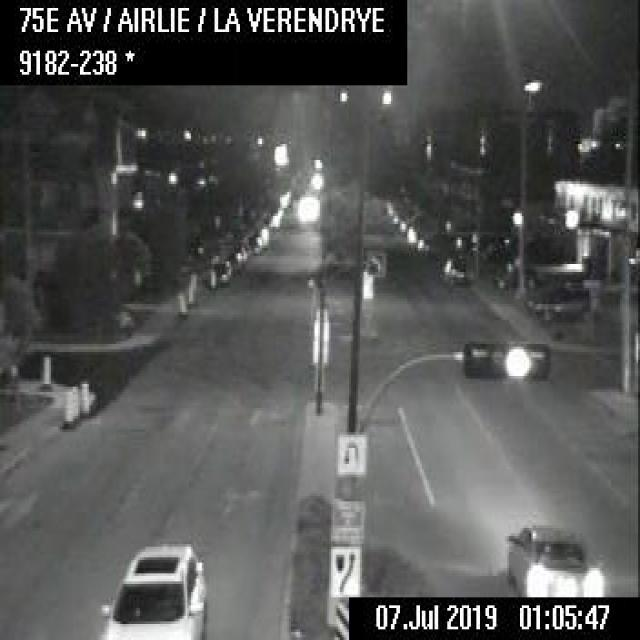construction: (62, 384, 72, 430), (40, 351, 52, 389), (206, 264, 217, 296), (186, 272, 196, 306), (79, 379, 88, 414), (70, 382, 78, 421), (175, 288, 185, 317)
vehicle: (98, 542, 206, 638), (500, 520, 602, 592), (530, 282, 588, 321), (440, 255, 470, 286), (214, 260, 231, 284)
